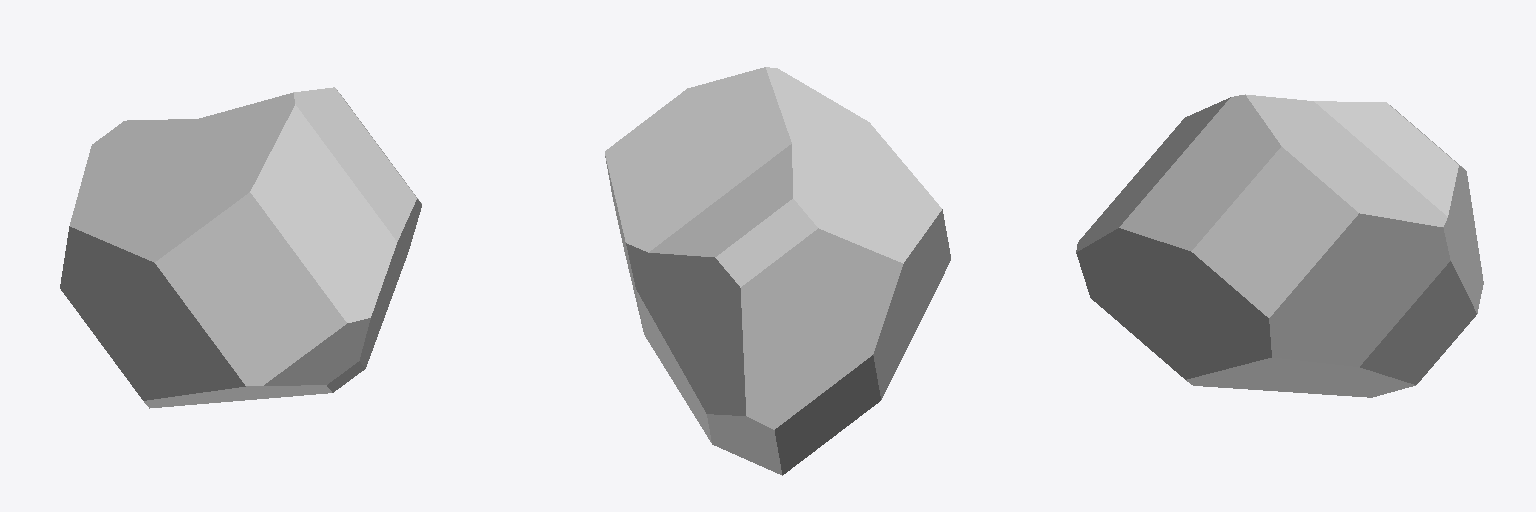
File: debris-0.obj
3 views of the same model, side by side, from view 1: azimuth 30°, elevation 25°; view 2: azimuth 150°, elevation 25°; view 3: azimuth 270°, elevation 25° (orthographic).
Parts seen in each view (by area): view 1: Cube.005; view 2: Cube.005; view 3: Cube.005.
Part boxes in pixels (bbox=[...]): Cube.005: bbox=[60, 87, 421, 408]; Cube.005: bbox=[605, 67, 950, 475]; Cube.005: bbox=[1076, 94, 1483, 397].
Bounding box in the file's own units: 4.57 × 4.65 × 5.01.